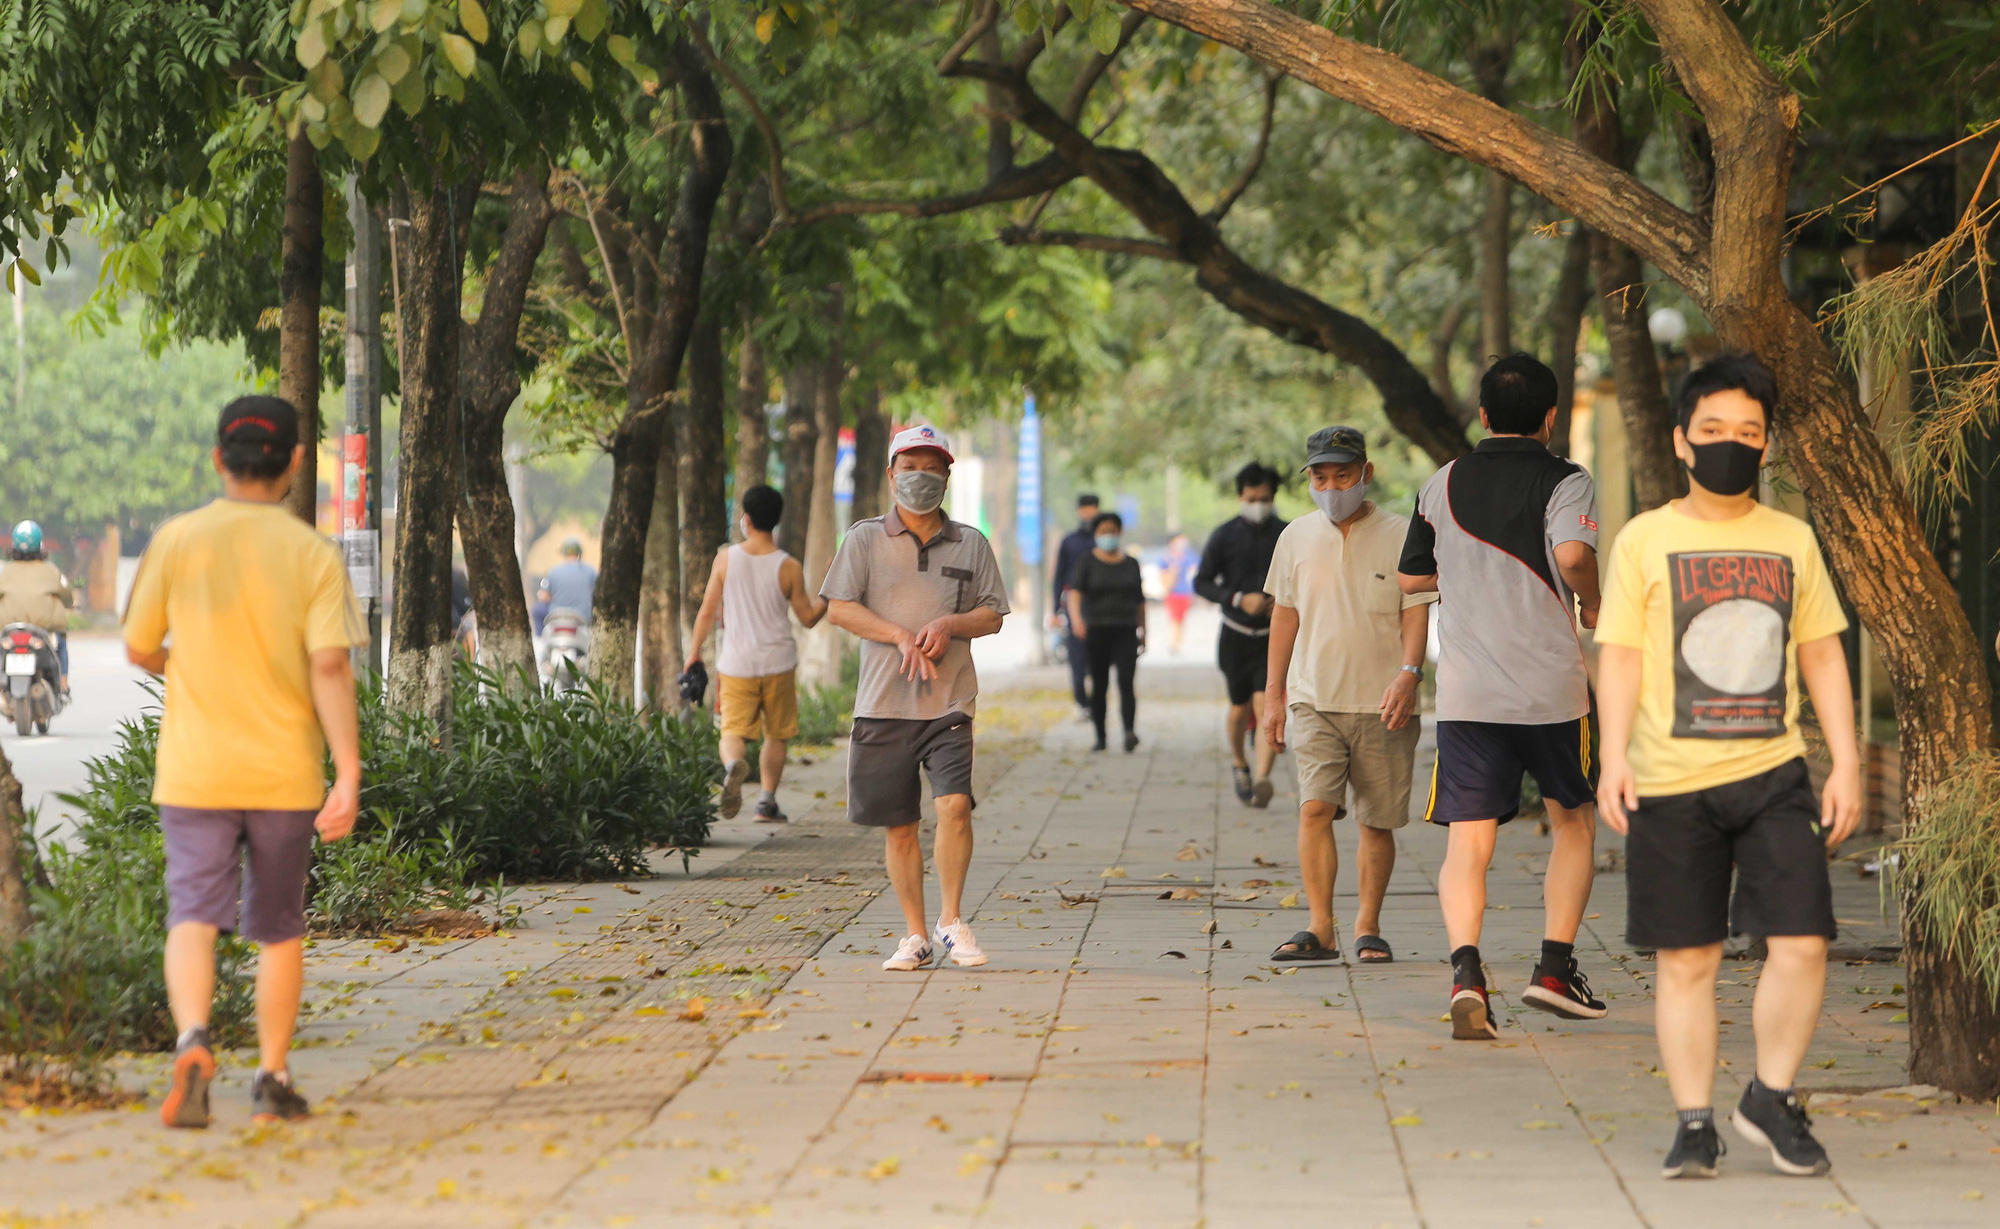person: (1577, 343, 1887, 1190), (111, 381, 379, 1140), (1387, 347, 1617, 1057), (815, 419, 1019, 984), (1243, 413, 1435, 984), (671, 475, 873, 830), (1187, 457, 1297, 818), (1057, 505, 1159, 760)
